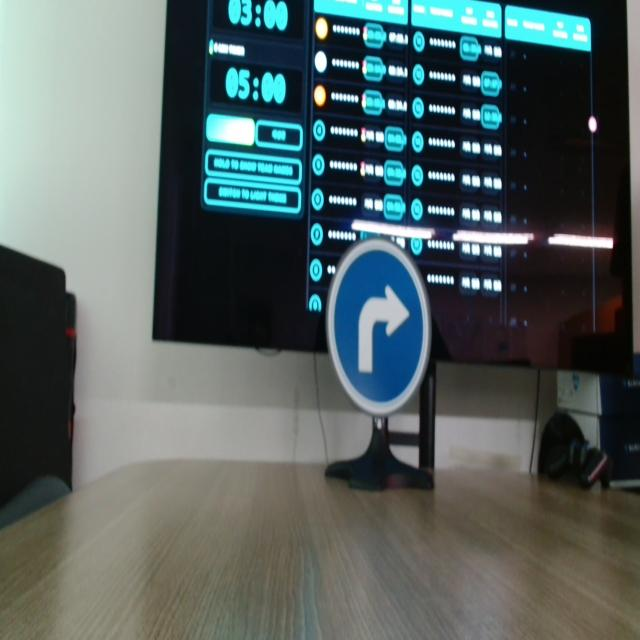right_dierection: (327, 239, 436, 414)
